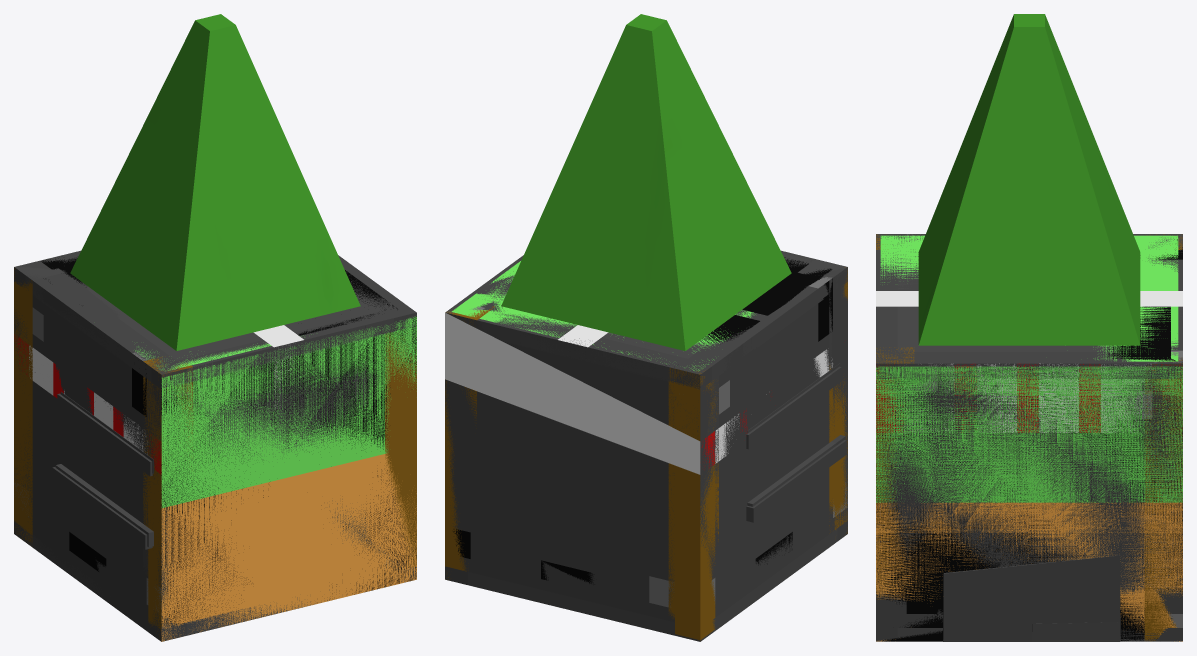
Rendered from Modular.fbx.
3 views of the same model, side by side, from view 1: azimuth 30°, elevation 25°; view 2: azimuth 150°, elevation 25°; view 3: azimuth 270°, elevation 25° (orthographic). The views are drawn at different scales.
Parts seen in each view (by area): view 1: Side, Tree, Concrete, FourPillar, Side_Concrete, House1, House, Edge, Market, Top_Concrete, Barricade, Tire (+2 smaller); view 2: Concrete, Tree, Market, House, House1, FourPillar, Rock1, Top, Top_Concrete, Fences, Tire, Barricade; view 3: Edge, Tree, Concrete, Edge_Concrete, House1, FourPillar, Market, Rock2, Rock1, Top, House, Top_Concrete (+2 smaller).
Part boxes in pixels (left/top/right/bottom): Side: left=161, top=317, right=416, bottom=641; Tree: left=70, top=14, right=360, bottom=350; Concrete: left=14, top=255, right=416, bottom=641; FourPillar: left=14, top=268, right=416, bottom=639; Side_Concrete: left=161, top=317, right=416, bottom=636; House1: left=14, top=250, right=416, bottom=640; House: left=14, top=268, right=416, bottom=641; Edge: left=161, top=316, right=416, bottom=507; Market: left=14, top=334, right=161, bottom=627; Top_Concrete: left=43, top=257, right=397, bottom=335; Barricade: left=253, top=325, right=303, bottom=409; Tire: left=69, top=532, right=106, bottom=571; Concrete: left=445, top=259, right=847, bottom=640; Tree: left=501, top=14, right=791, bottom=350; Market: left=445, top=312, right=847, bottom=640; House: left=445, top=251, right=847, bottom=641; House1: left=445, top=250, right=847, bottom=641; FourPillar: left=445, top=267, right=847, bottom=618; Rock1: left=497, top=509, right=645, bottom=615; Top: left=451, top=261, right=755, bottom=371; Top_Concrete: left=700, top=257, right=831, bottom=343; Fences: left=668, top=259, right=847, bottom=608; Tire: left=541, top=532, right=792, bottom=584; Barricade: left=558, top=325, right=608, bottom=347; Edge: left=876, top=366, right=1182, bottom=641; Tree: left=918, top=14, right=1140, bottom=345; Concrete: left=876, top=234, right=1182, bottom=641; Edge_Concrete: left=876, top=366, right=1182, bottom=641; House1: left=876, top=234, right=1182, bottom=641; FourPillar: left=876, top=234, right=1182, bottom=641; Market: left=876, top=363, right=1182, bottom=432; Rock2: left=943, top=555, right=1120, bottom=641; Rock1: left=943, top=555, right=1120, bottom=641; Top: left=880, top=235, right=1178, bottom=361; House: left=876, top=234, right=1182, bottom=641; Top_Concrete: left=916, top=239, right=1177, bottom=361.
Bounding box in the file's own units: 82.48 × 160 × 80.
